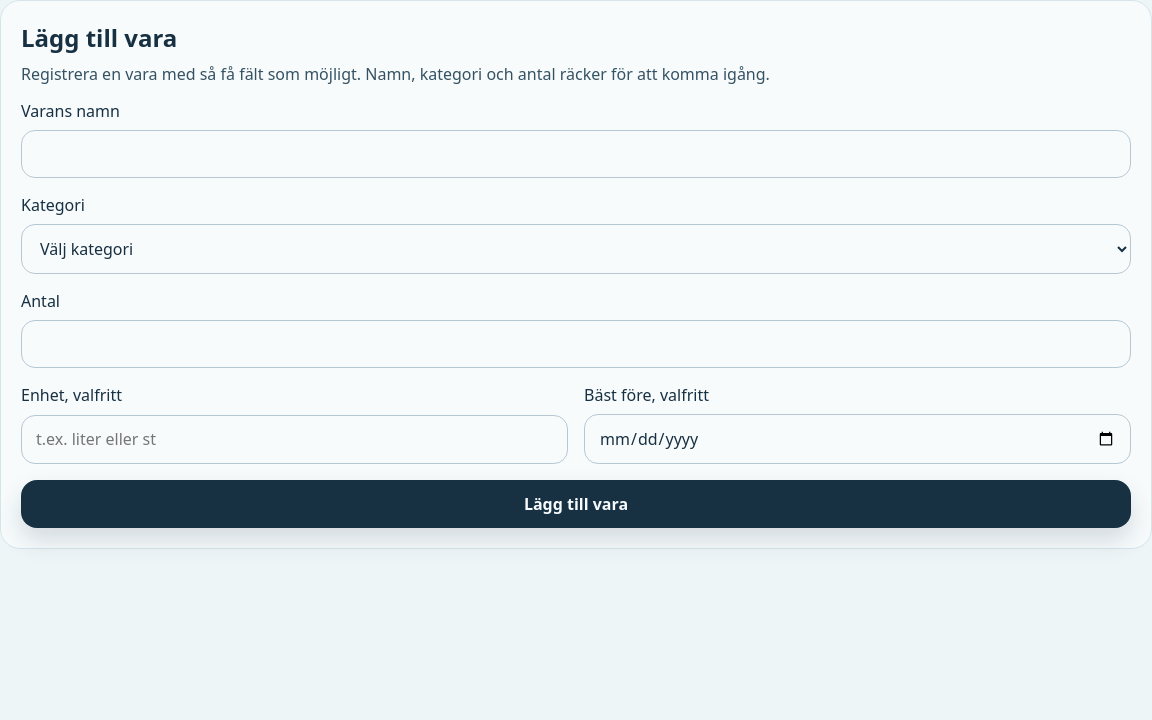
Scenario: QuickAddItemSheet › shows validation without clearing input and stores the item locally
Step 1. Type "Ris" into the field labelled "Varans namn" → (576, 154), box left=21, top=130, right=1131, bottom=178
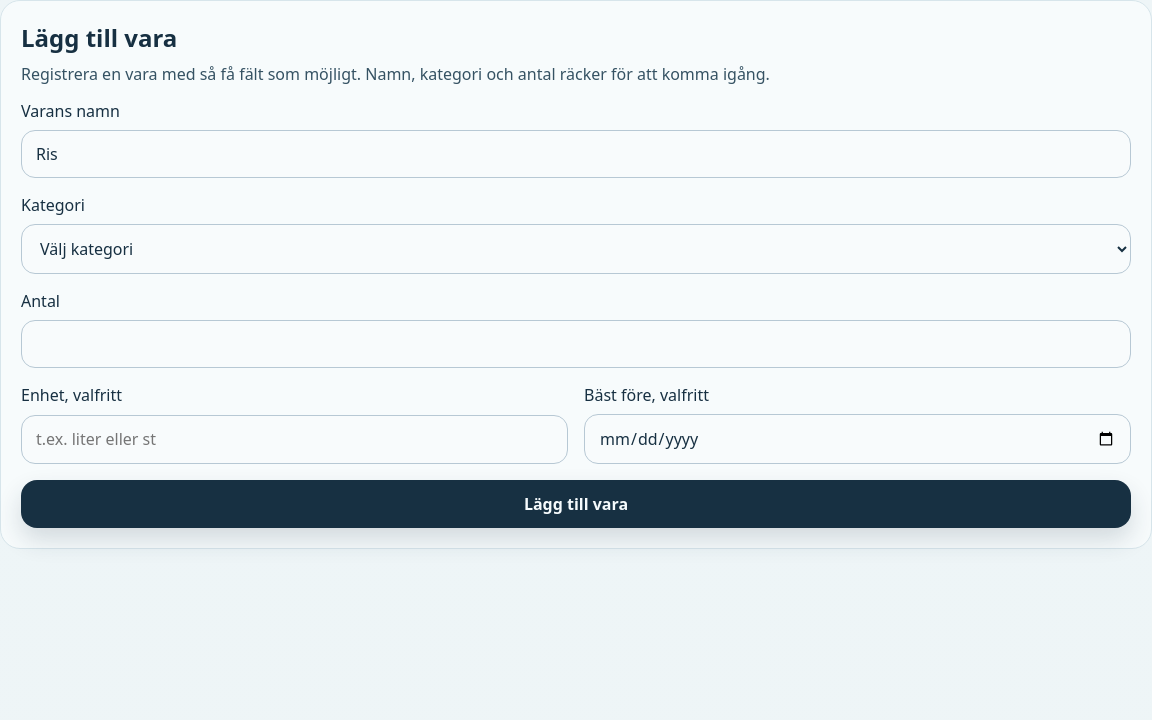
Step 2. Click the button "Lägg till vara" → (576, 504), box left=21, top=480, right=1131, bottom=528
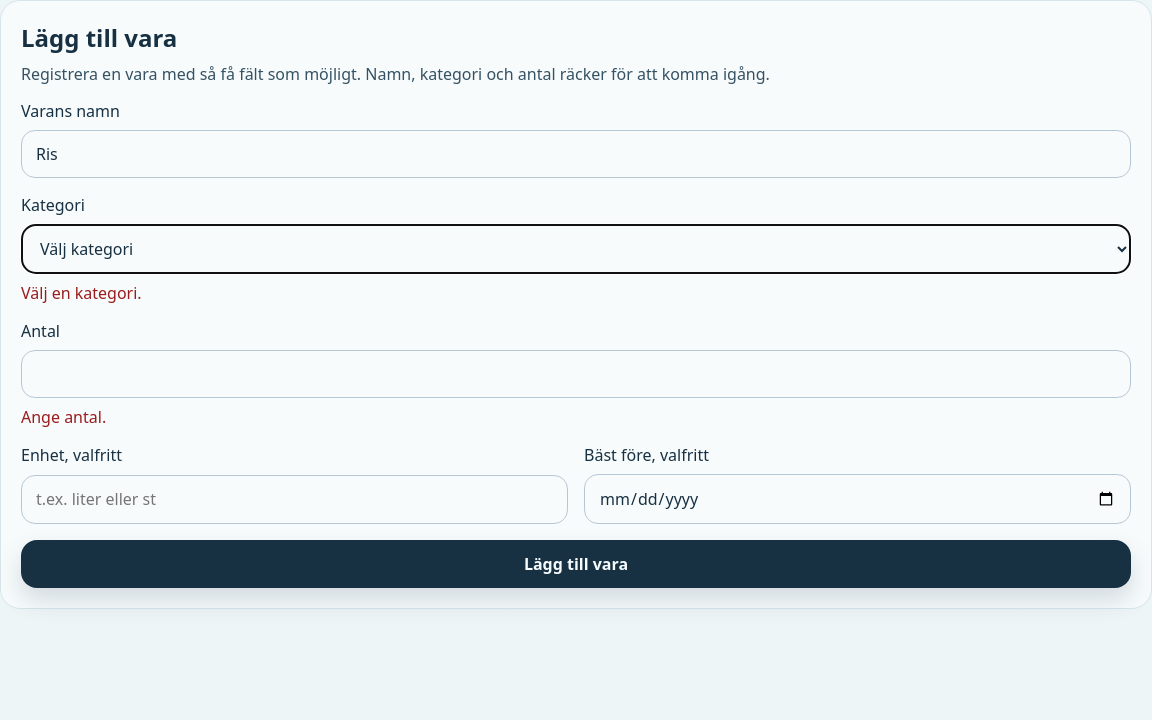
Expected: the text "Välj en kategori." is shown, left=21, top=282, right=142, bottom=304
Step 3. Select "Mat" in the dropdown labelled "Kategori" → (576, 249), box left=21, top=224, right=1131, bottom=274
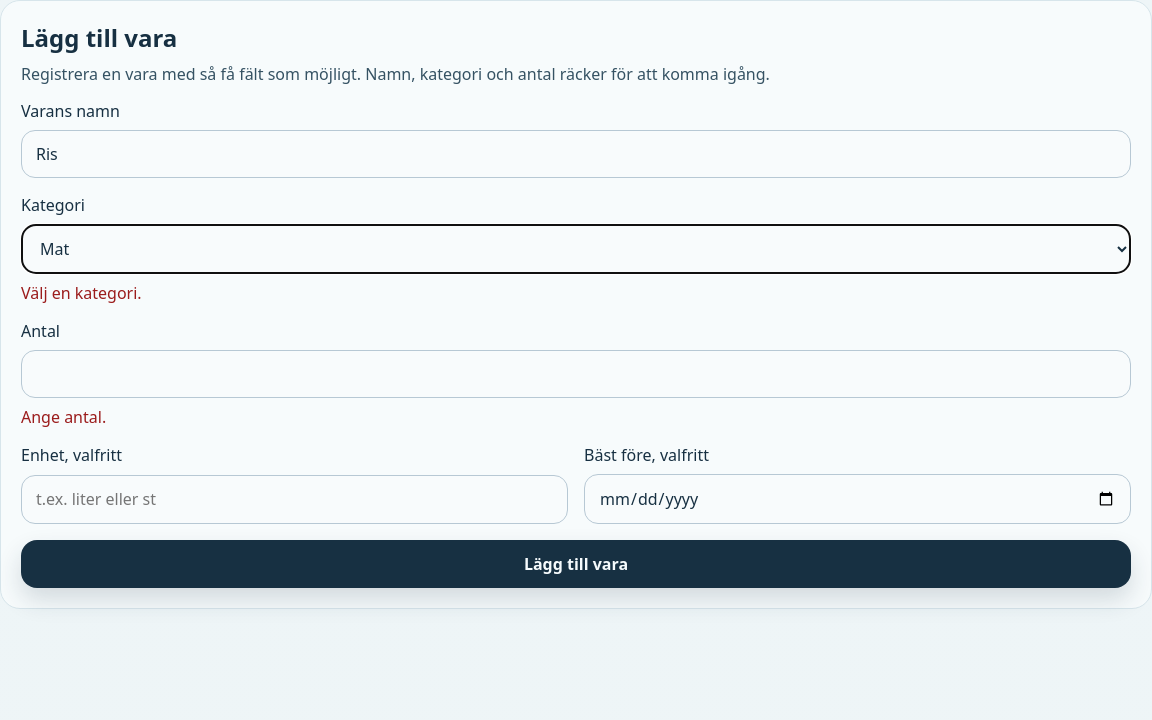
Step 4. Type "3" into the number field labelled "Antal" → (576, 374), box left=21, top=350, right=1131, bottom=398
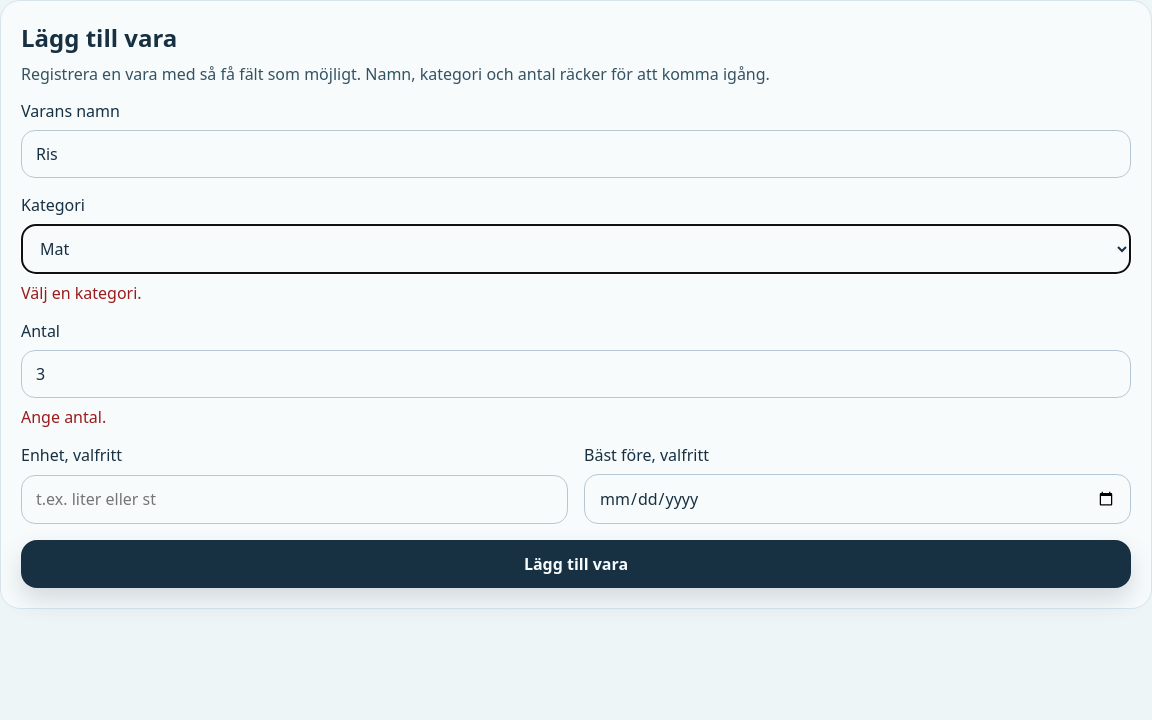
Step 5. Type "kg" into the field labelled "Enhet, valfritt" → (294, 499), box left=21, top=475, right=568, bottom=524
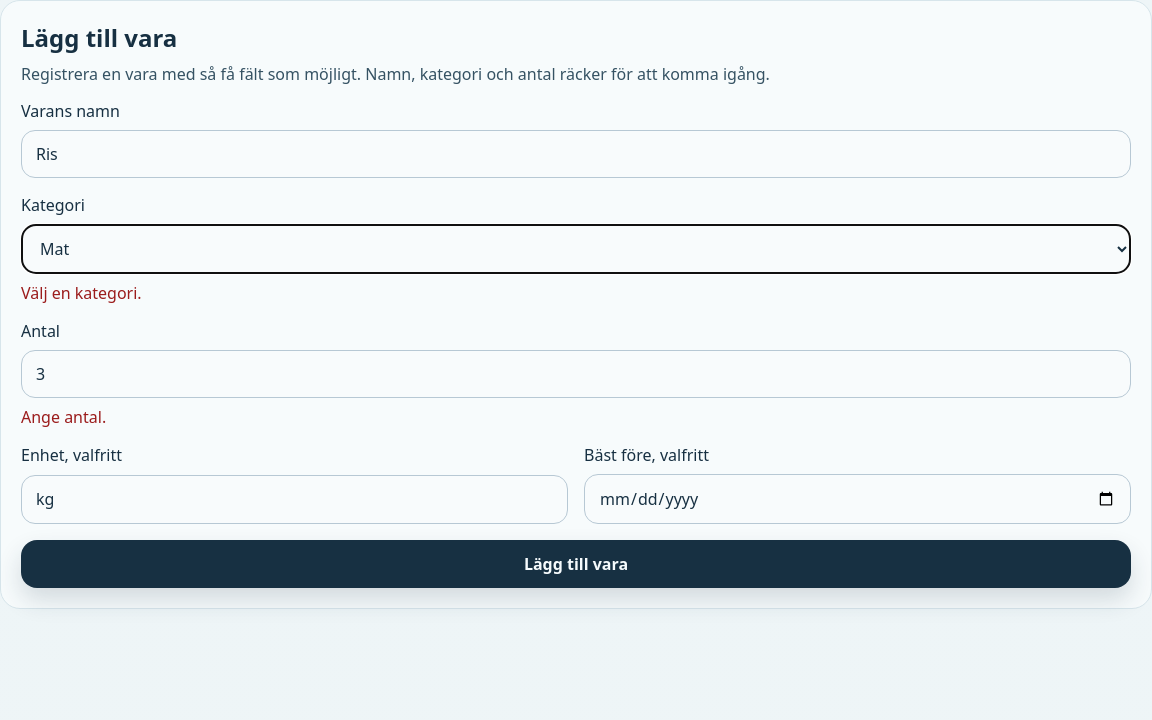
Step 6. Click the button "Lägg till vara" → (576, 564), box left=21, top=540, right=1131, bottom=588
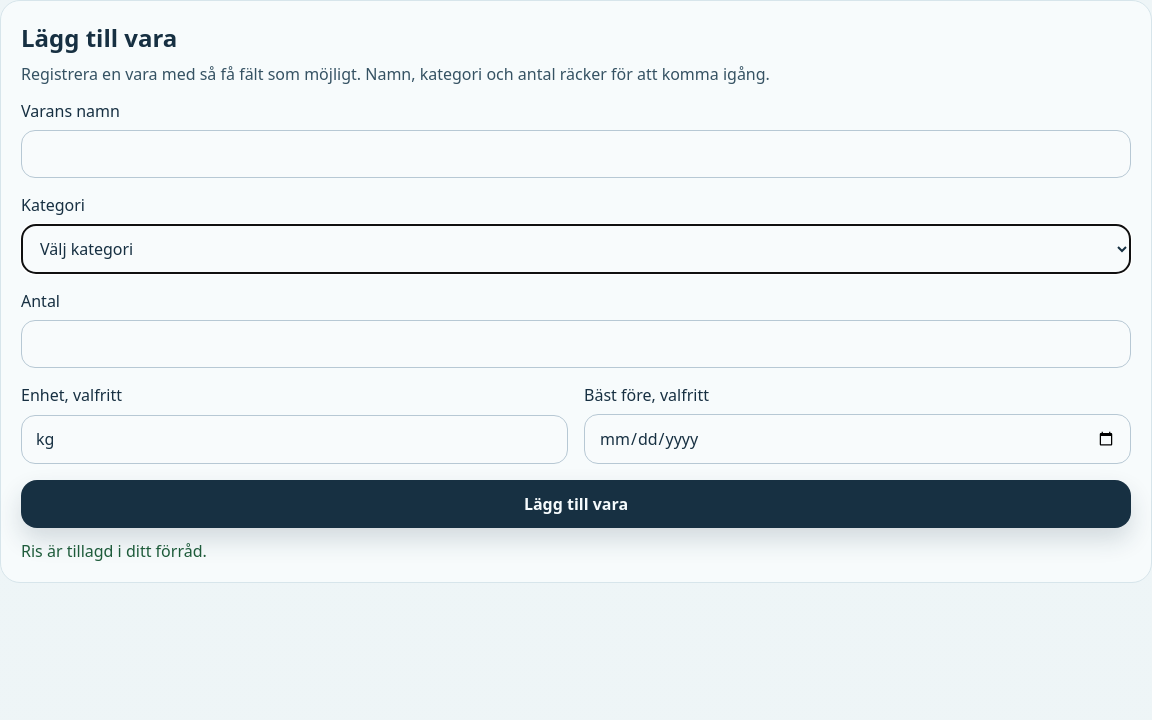
Expected: the text "Ris är tillagd i ditt förråd." is shown, left=21, top=540, right=207, bottom=562
